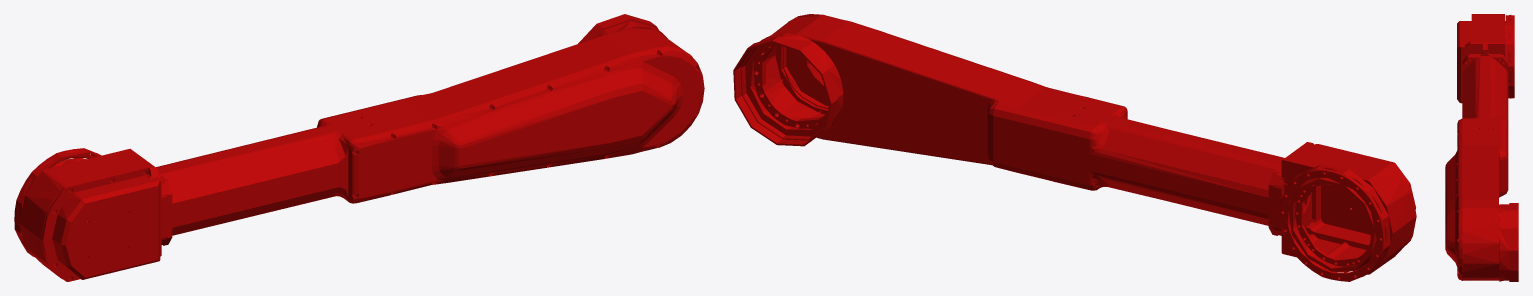
File: arm_link_1.dae
3 views of the same model, side by side, from view 1: azimuth 30°, elevation 25°; view 2: azimuth 150°, elevation 25°; view 3: azimuth 270°, elevation 25° (orthographic). The views are drawn at different scales.
Visible parts, largest first — view 1: Arm_Link_1; view 2: Arm_Link_1; view 3: Arm_Link_1.
Boxes of the visible parts, x1,y1,x2,y2 form: Arm_Link_1: [14, 14, 704, 281]; Arm_Link_1: [733, 14, 1416, 281]; Arm_Link_1: [1445, 14, 1518, 281].
Size of the model in its own units: 795 by 112 by 128.
